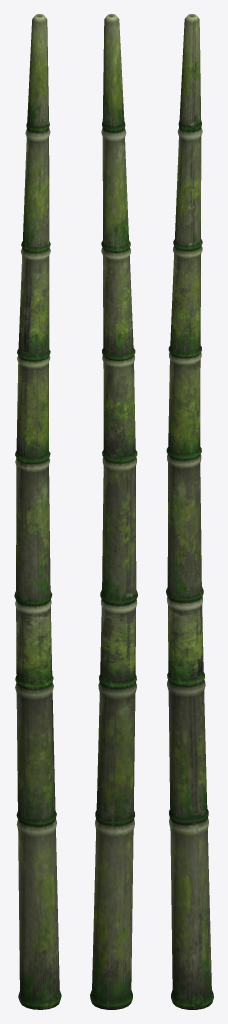
Rendered from BambooSet_part_22.fbx.
3 renders of one model, left to right at view 1: azimuth 30°, elevation 25°; view 2: azimuth 150°, elevation 25°; view 3: azimuth 330°, elevation 25°, orthographic.
Parts seen in each view (by area): view 1: Object_44.001; view 2: Object_44.001; view 3: Object_44.001.
Boxes of the visible parts, x1=… form: Object_44.001: x1=14, y1=14, x2=61, y2=1009; Object_44.001: x1=90, y1=14, x2=137, y2=1009; Object_44.001: x1=166, y1=14, x2=213, y2=1009.
Bounding box in the file's own units: 145 × 3205 × 129.
